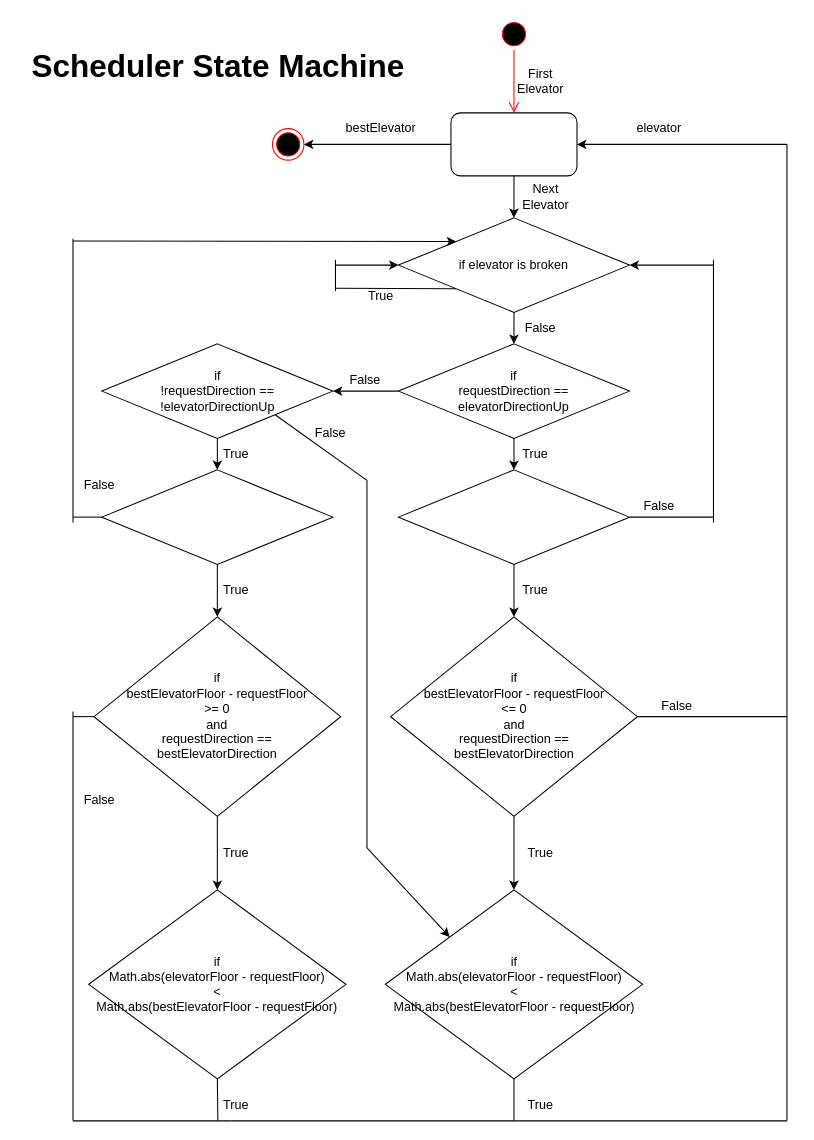
Image size: 814x1140. Some labels were removed from this diagram. The box of each missing label's shape, as (x1, y1, x2, y2) in pixels:
bestElevator placeholder: (450, 112, 577, 176)
if elevatorFloor - requestFloor <= 0: (397, 469, 629, 564)
if elevatorFloor - requestFloor >= 0: (101, 469, 333, 564)
